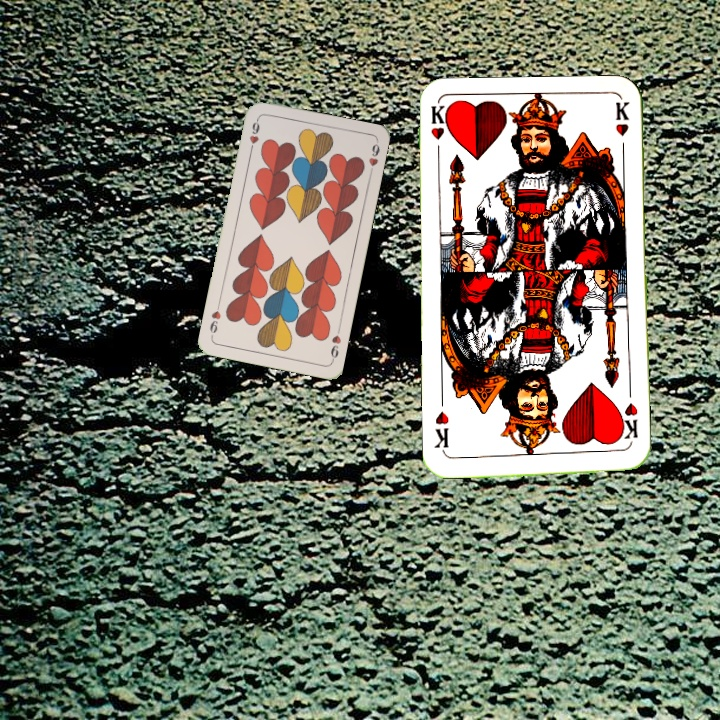H9: (326, 324, 344, 364), (245, 115, 262, 155)
HK: (426, 103, 451, 162), (615, 399, 641, 442)
